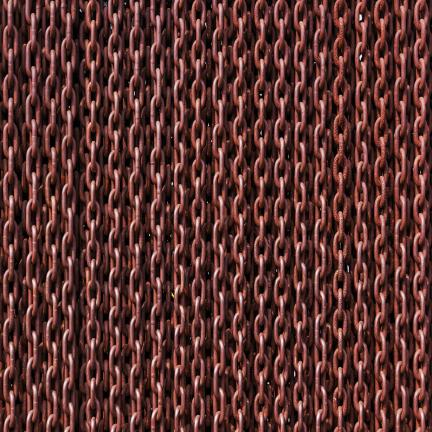karat: (1, 0, 431, 432)
